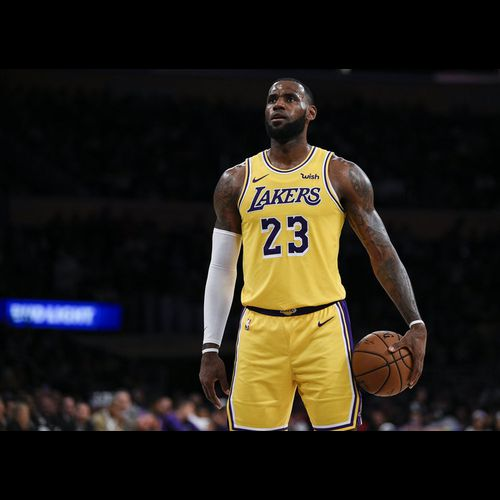ball: (350, 330, 412, 396)
